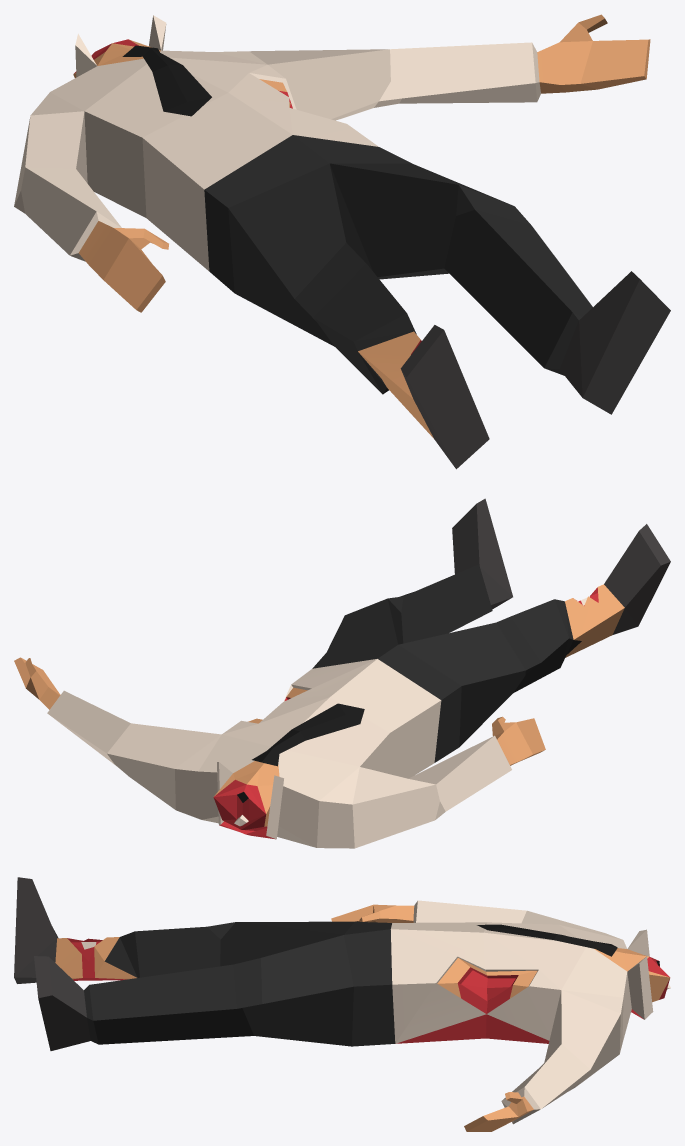
The model's file is apocalypse_man-tie-dead-b.fbx.
3 renders of one model, top to bottom at view 1: azimuth 30°, elevation 25°; view 2: azimuth 150°, elevation 25°; view 3: azimuth 270°, elevation 25°, orthographic. The views are drawn at different scales.
Visible parts, largest first — view 1: apocalypse_man_tie_dead_b; view 2: apocalypse_man_tie_dead_b; view 3: apocalypse_man_tie_dead_b.
Boxes of the visible parts, x1,y1,x2,y2 form: apocalypse_man_tie_dead_b: (14, 14, 670, 469); apocalypse_man_tie_dead_b: (14, 498, 670, 848); apocalypse_man_tie_dead_b: (14, 877, 670, 1131).
Bounding box in the file's own units: 160 × 36.05 × 200.
